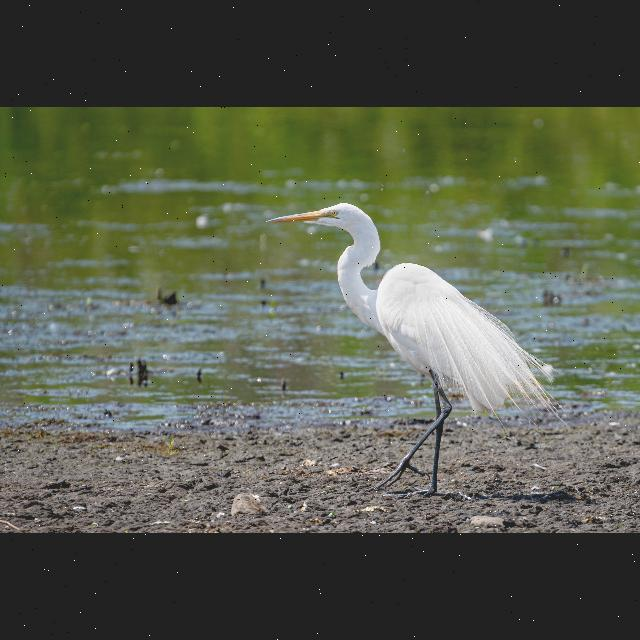egret: (258, 197, 564, 499)
